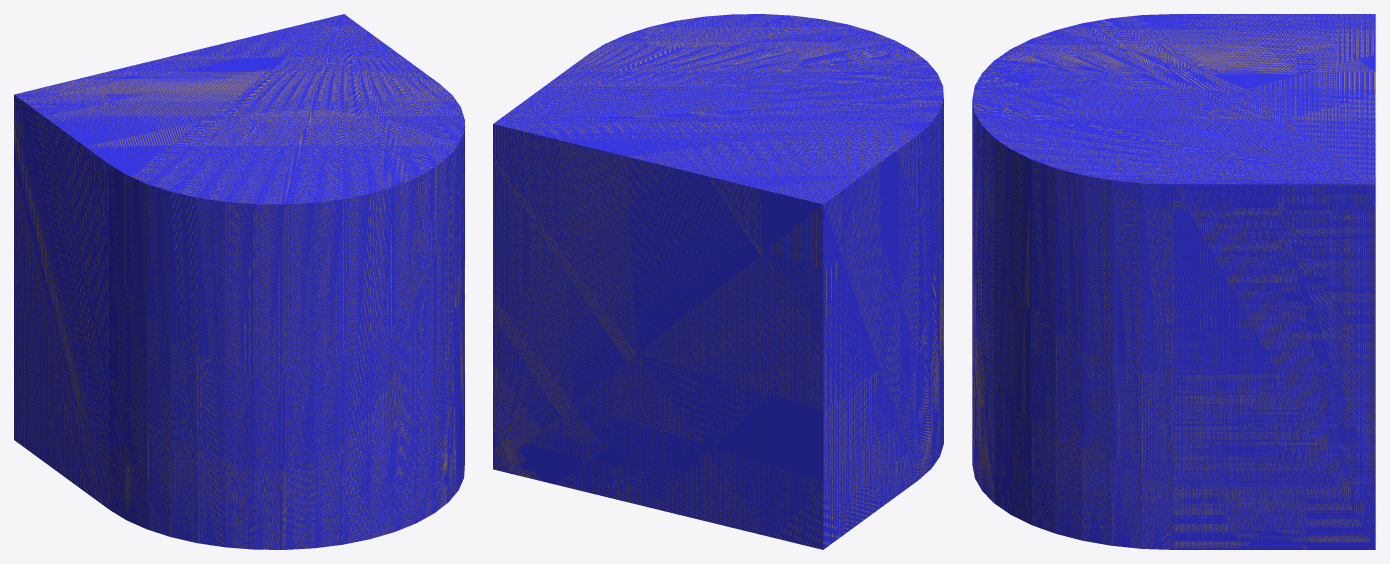
Rendered from male_dtto.dae.
The picture shows the model from 3 angles, left to right: view 1: azimuth 30°, elevation 25°; view 2: azimuth 150°, elevation 25°; view 3: azimuth 270°, elevation 25°; orthographic projection. The views are drawn at different scales.
Parts seen in each view (by area): view 1: male; view 2: male; view 3: male.
Part boxes in pixels (<box>): male: <box>14,14,464,549</box>; male: <box>493,14,943,549</box>; male: <box>972,14,1375,549</box>.
Size of the model in its own units: 2.52 by 2.52 by 2.52.
